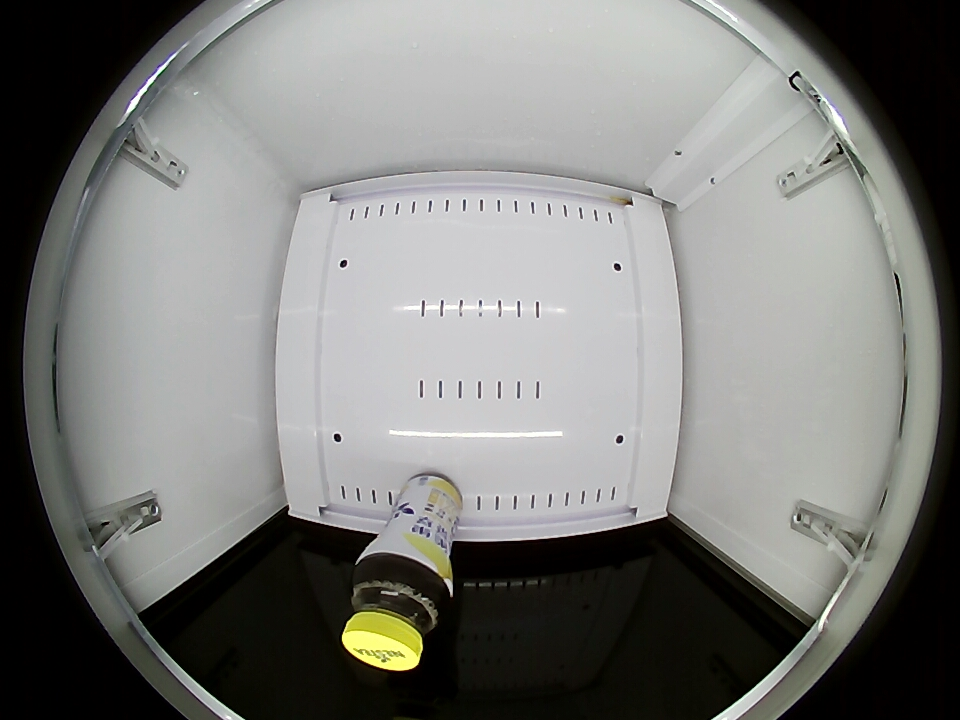chacui: (343, 552, 453, 672)
